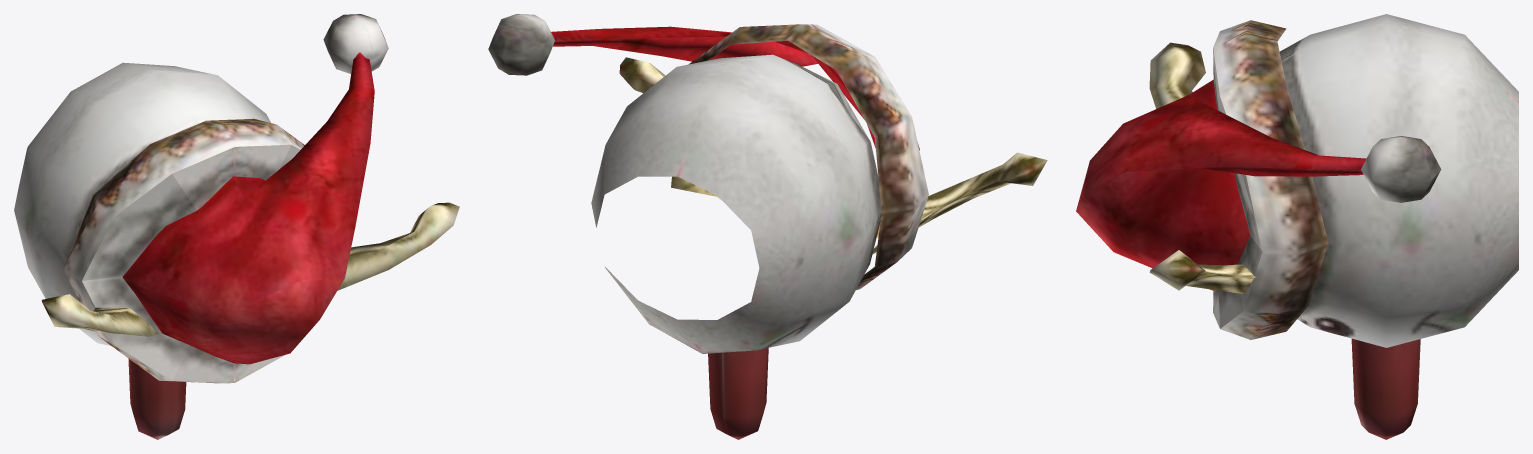
Rendered from snowman_die_head_model.glb.
The picture shows the model from 3 angles, left to right: view 1: azimuth 30°, elevation 25°; view 2: azimuth 150°, elevation 25°; view 3: azimuth 270°, elevation 25°; orthographic projection. The views are drawn at different scales.
Visible parts, largest first — view 1: model_snowman_die_head_model; view 2: model_snowman_die_head_model; view 3: model_snowman_die_head_model.
Part boxes in pixels (x1=…): model_snowman_die_head_model: x1=14, y1=14, x2=459, y2=439; model_snowman_die_head_model: x1=488, y1=14, x2=1047, y2=439; model_snowman_die_head_model: x1=1076, y1=14, x2=1518, y2=439.
Bounding box in the file's own units: 0.6167 × 0.4954 × 0.4794.
Materials: 1 (1 with a texture image).
